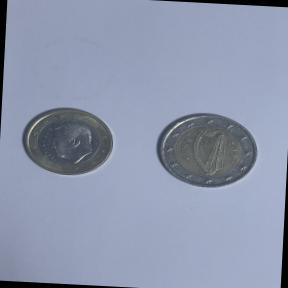1 Euro-B: (14, 102, 120, 184)
2 Euro-B: (146, 104, 264, 197)
